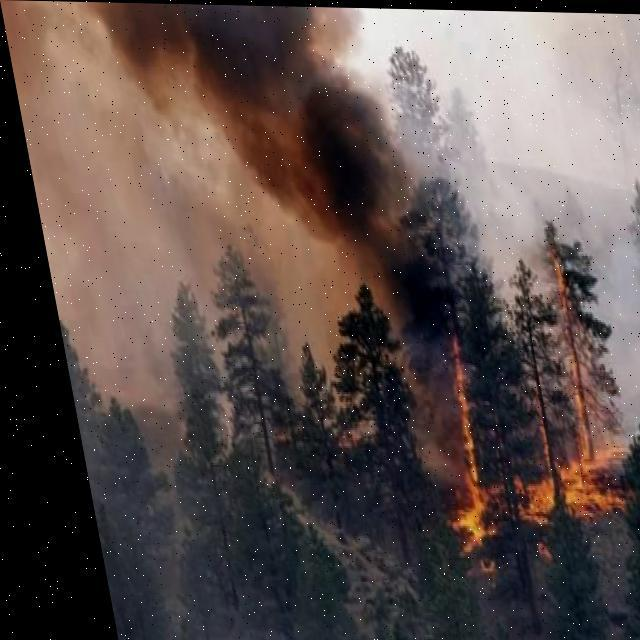Fire: (387, 227, 620, 558)
